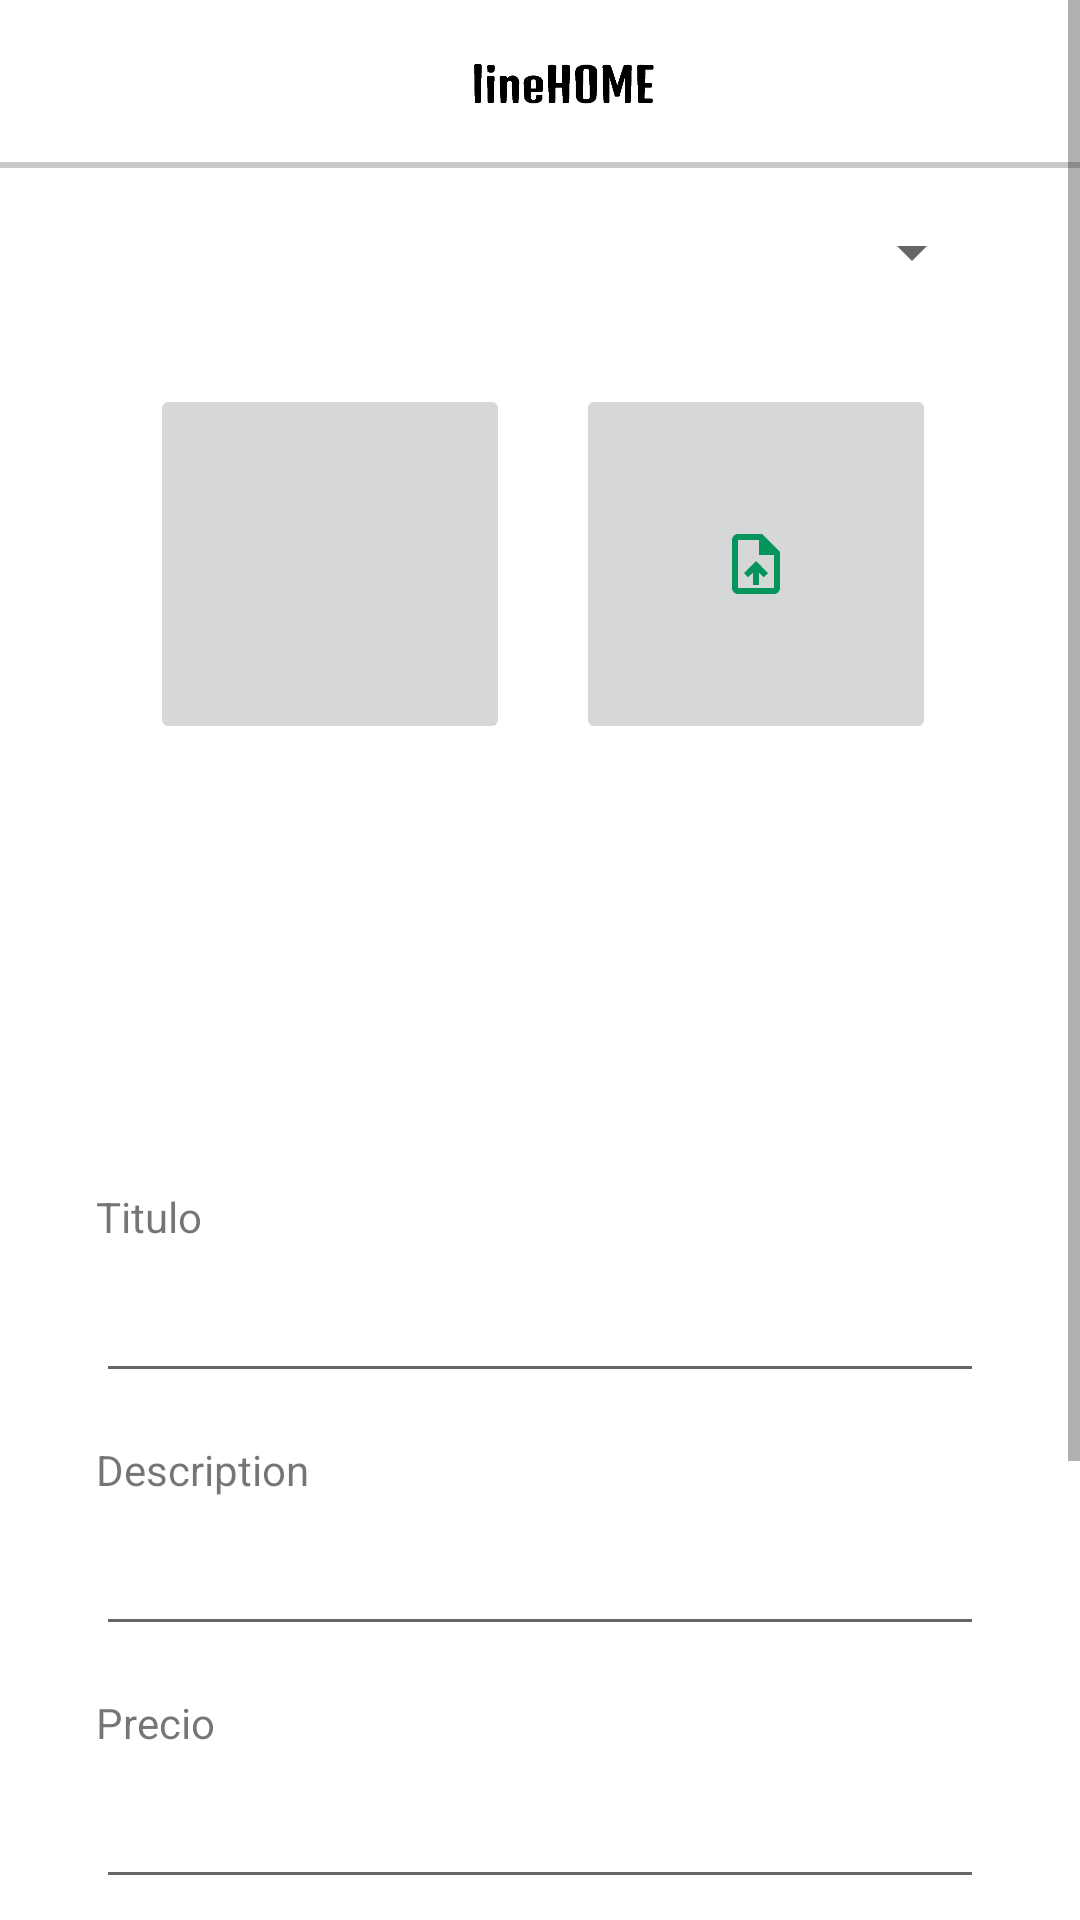

Icon bounding boxes for this 1080px x 1920px phone screenshot, format (x1, y1, x2, y2):
upload file: (588, 402, 924, 726)
